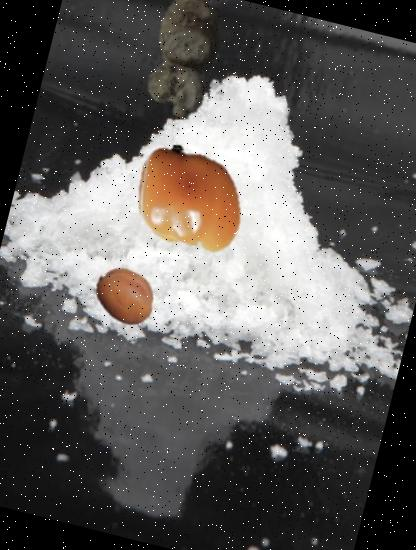Apricot: (88, 259, 162, 333)
Ginger: (104, 0, 262, 135)
Pepper: (124, 134, 256, 265)
